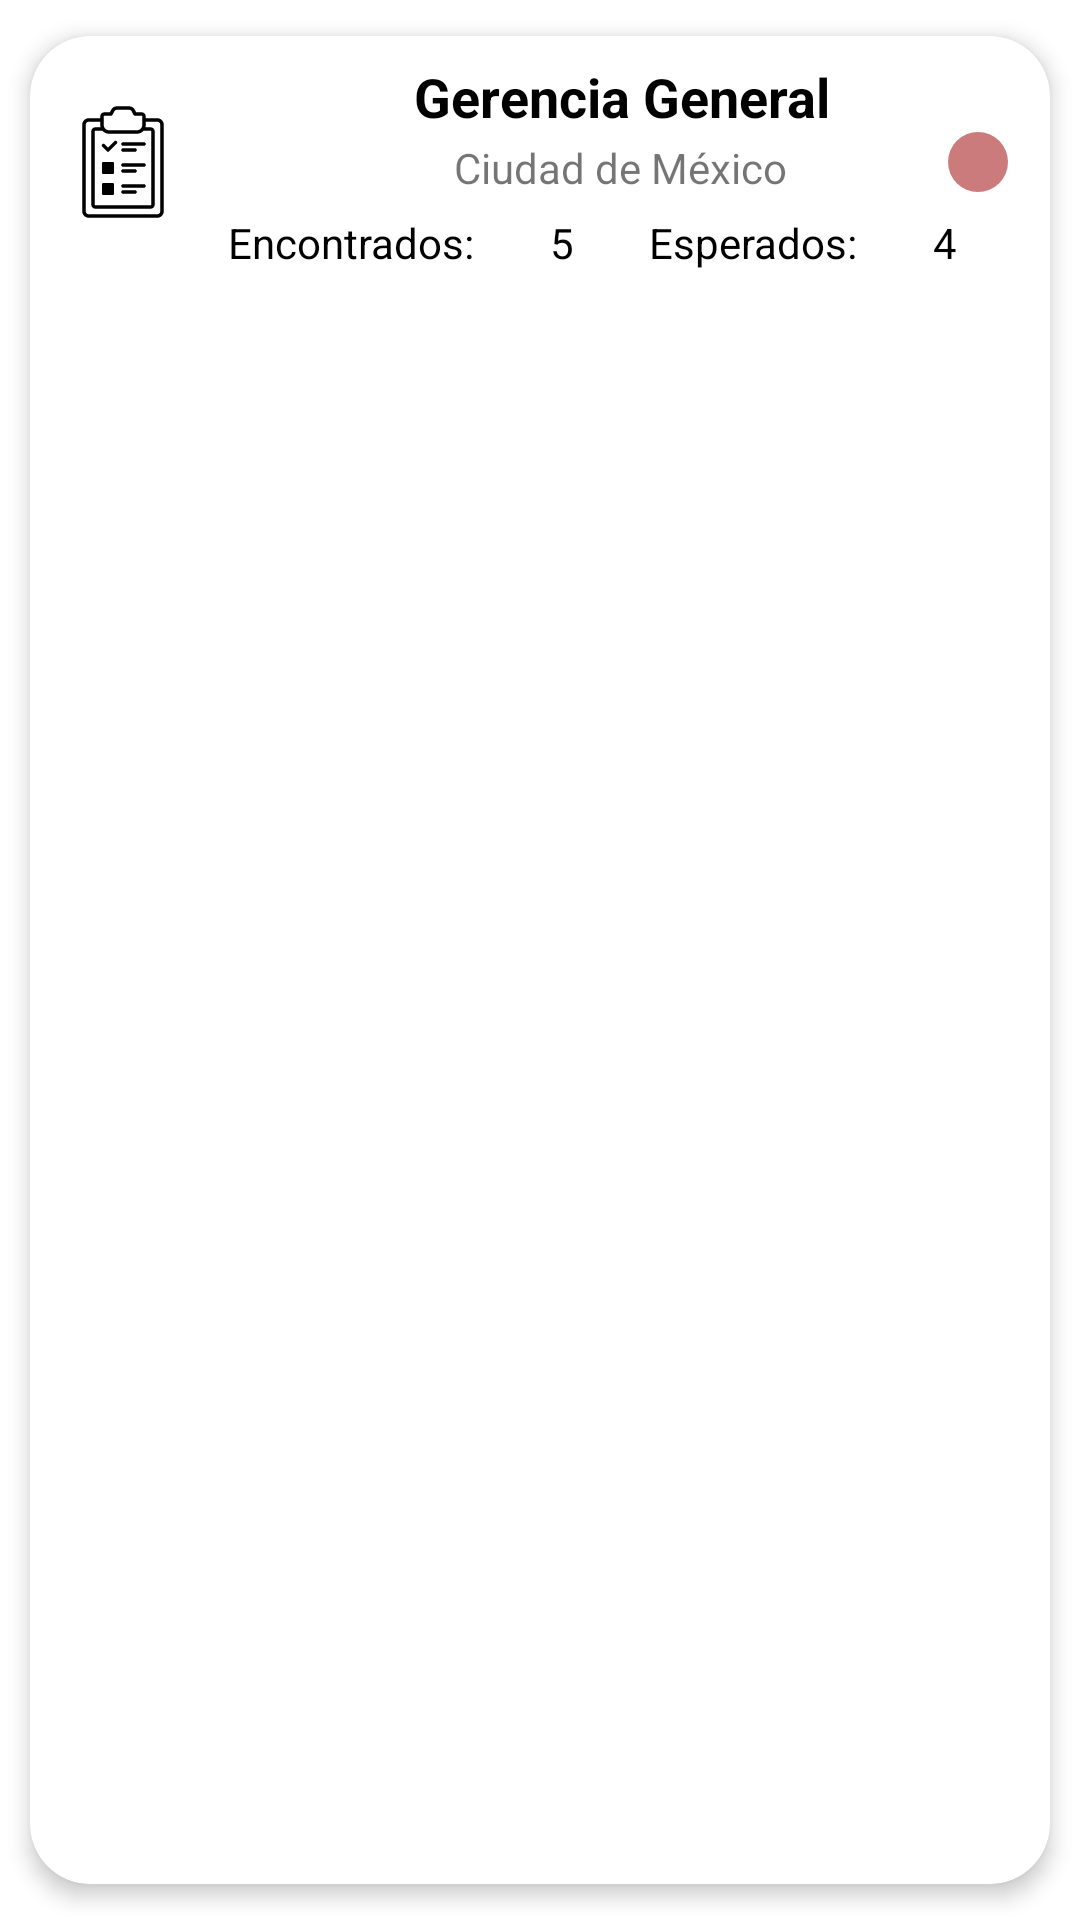

Where icons sit on this 1080px x 1920px app screen, as (x1, y1, x2, y2):
de tareas: (82, 106, 164, 218)
